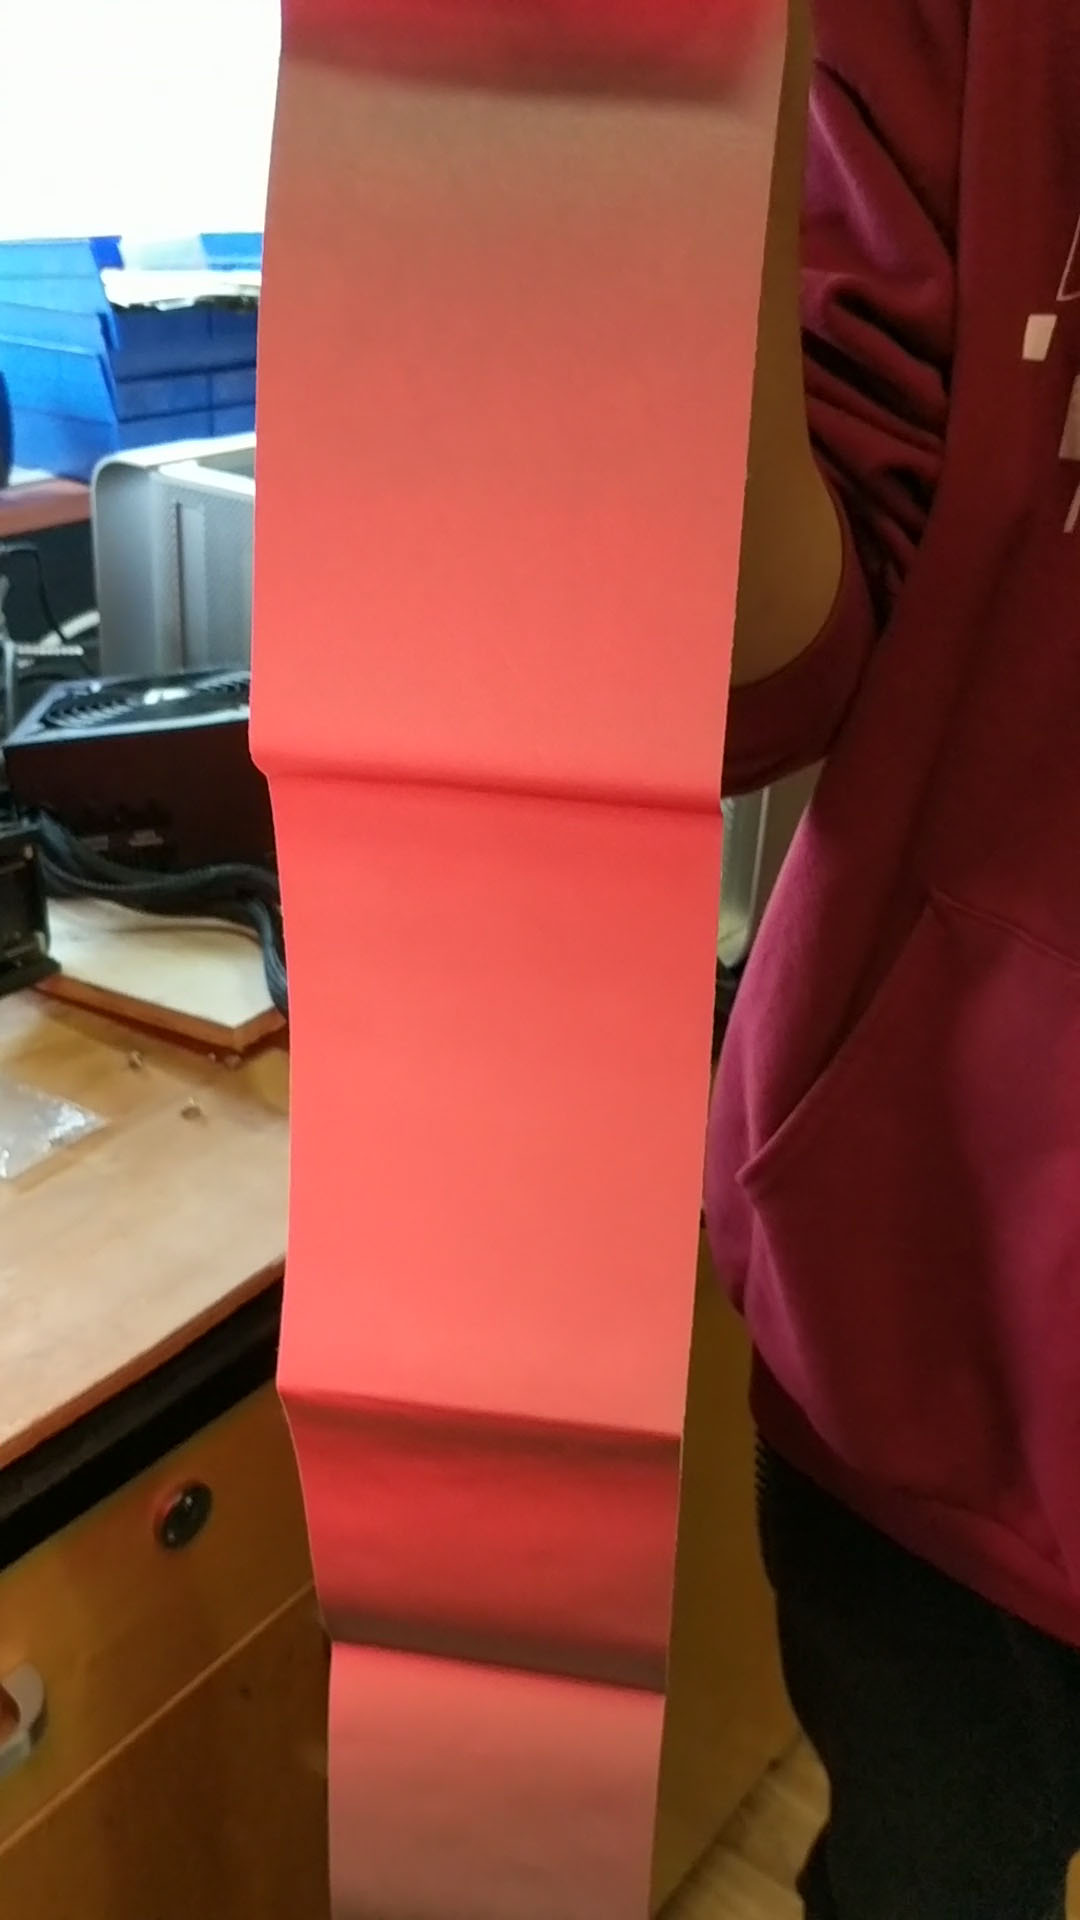gear: (248, 0, 793, 1920)
